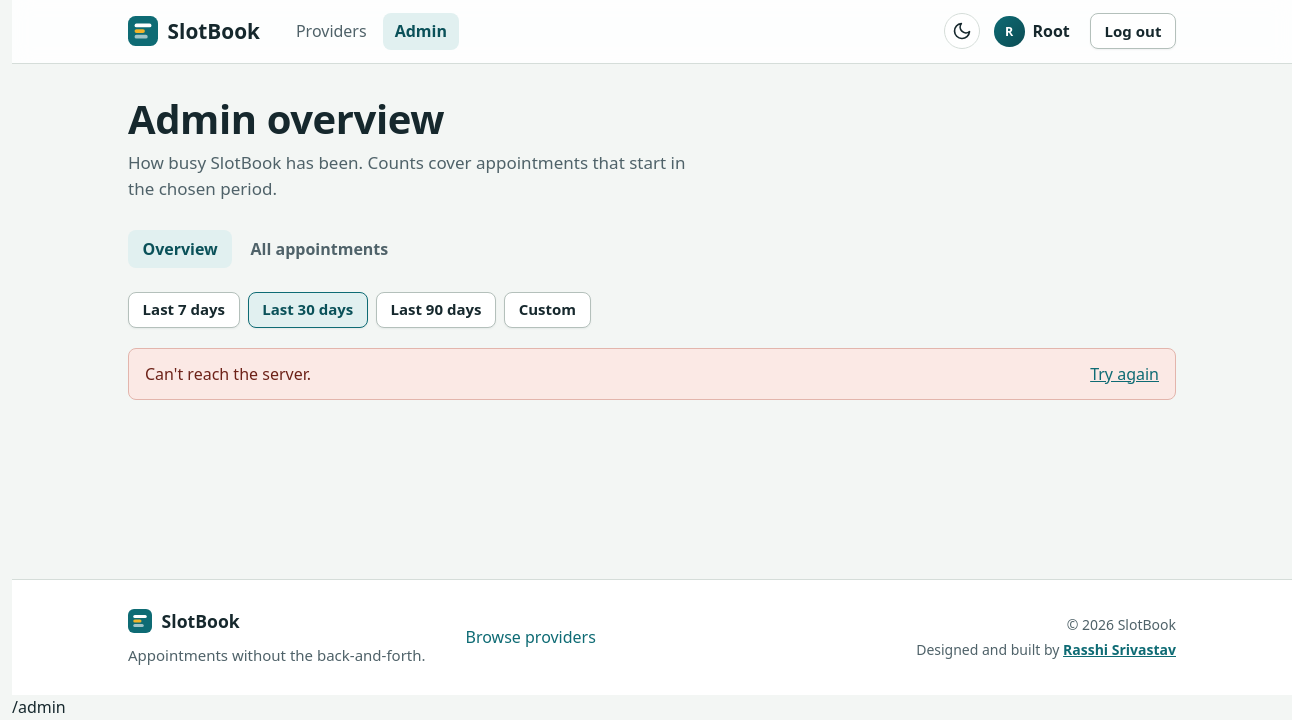
Test: admin overview › offers a retry when loading fails
Expected: the text "Can't reach the server." is shown, 145,362 -> 311,387
Step 1. Click the button "Try again" → (1125, 374), box 1090,362 -> 1159,387
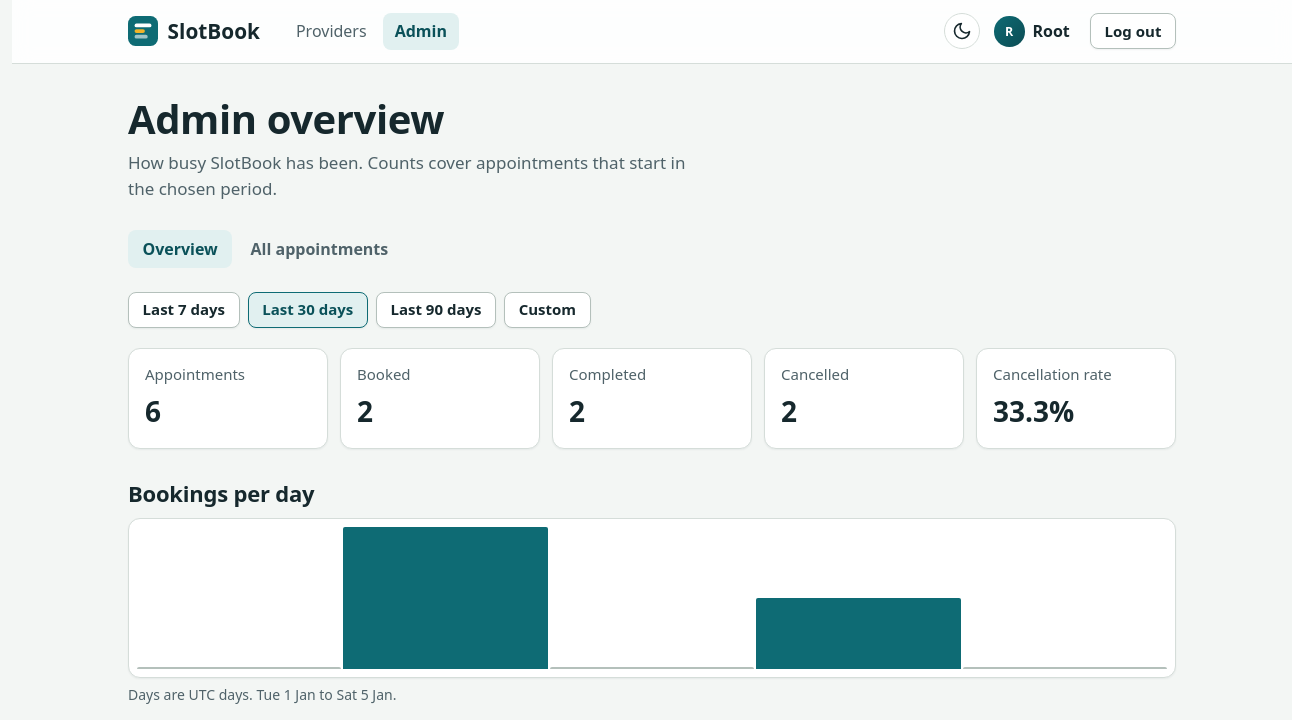
Result: the picture named "Bookings per day" is shown at 128,518 -> 1176,678
